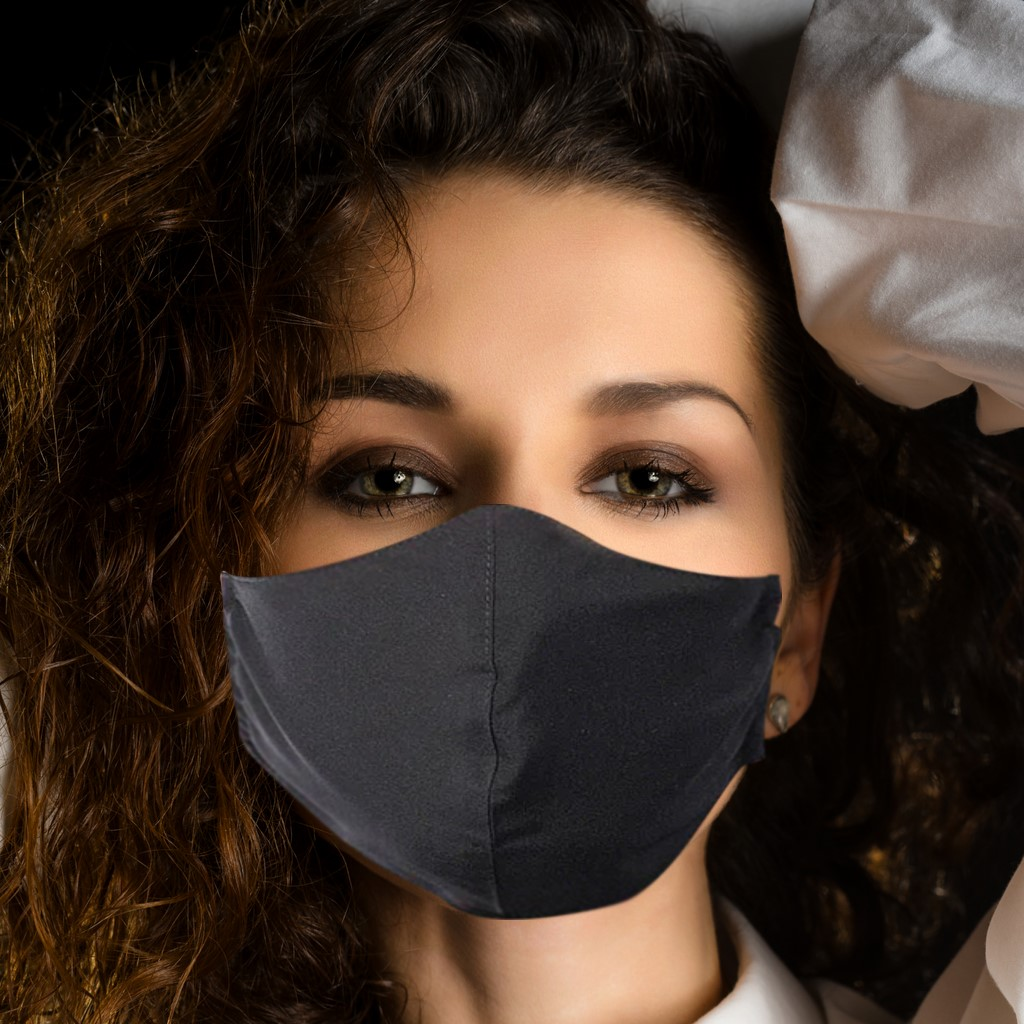con_mascara: (176, 160, 800, 918)
